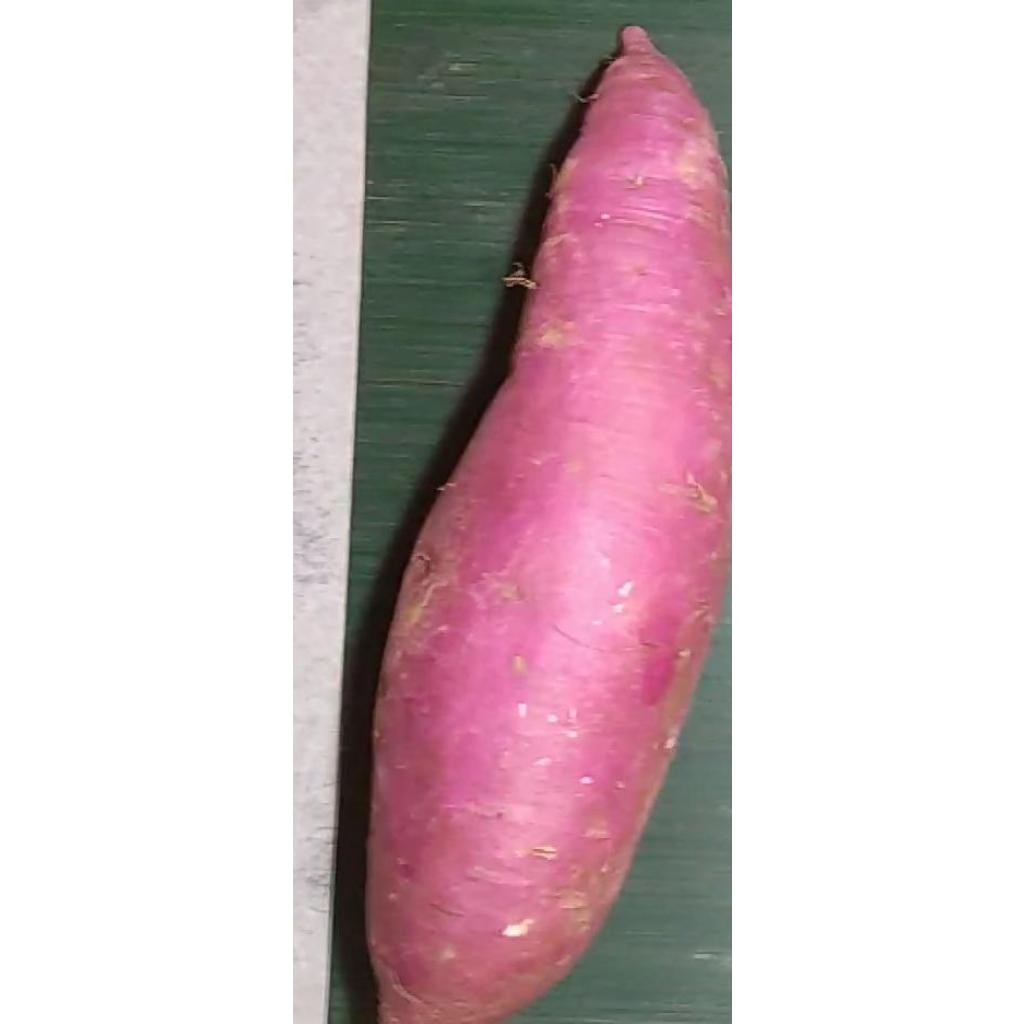Sweet Potato: (364, 24, 732, 1024)
